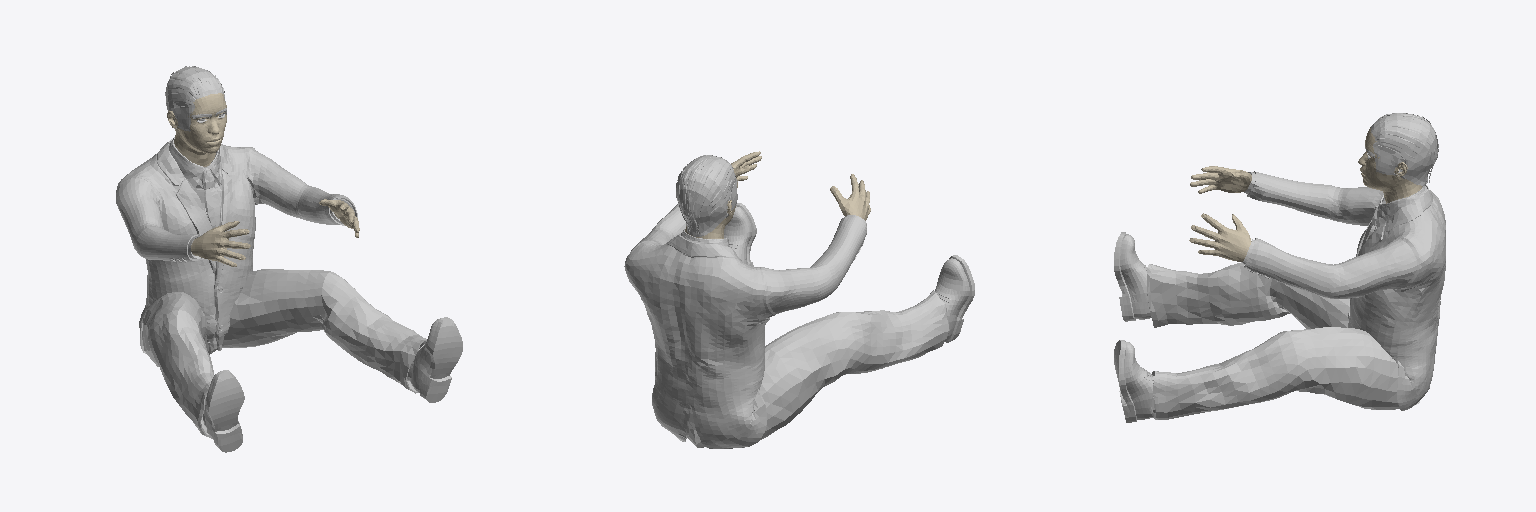
The model's file is cleopapa.obj.
The picture shows the model from 3 angles: view 1: azimuth 30°, elevation 25°; view 2: azimuth 150°, elevation 25°; view 3: azimuth 270°, elevation 25°; orthographic projection.
Visible parts, largest first — view 1: male_elegantsuit01Mesh_male_elegantsuit01, shoes03Mesh_shoes03, cleopapa_1Mesh_cleopapa_1, short04Mesh_short04; view 2: male_elegantsuit01Mesh_male_elegantsuit01, short04Mesh_short04, shoes03Mesh_shoes03, cleopapa_1Mesh_cleopapa_1; view 3: male_elegantsuit01Mesh_male_elegantsuit01, shoes03Mesh_shoes03, cleopapa_1Mesh_cleopapa_1, short04Mesh_short04.
Part boxes in pixels (x1,y1,x2,y2): male_elegantsuit01Mesh_male_elegantsuit01: (116,137,426,438); shoes03Mesh_shoes03: (203,317,462,452); cleopapa_1Mesh_cleopapa_1: (167,93,359,266); short04Mesh_short04: (165,66,226,131); male_elegantsuit01Mesh_male_elegantsuit01: (624,204,949,448); short04Mesh_short04: (676,155,737,236); shoes03Mesh_shoes03: (724,203,974,342); cleopapa_1Mesh_cleopapa_1: (685,151,870,238); male_elegantsuit01Mesh_male_elegantsuit01: (1147,171,1445,419); shoes03Mesh_shoes03: (1114,232,1155,422); cleopapa_1Mesh_cleopapa_1: (1189,127,1422,261); short04Mesh_short04: (1371,113,1438,185).
Size of the model in its own units: 0.7854 by 0.8294 by 0.8907.